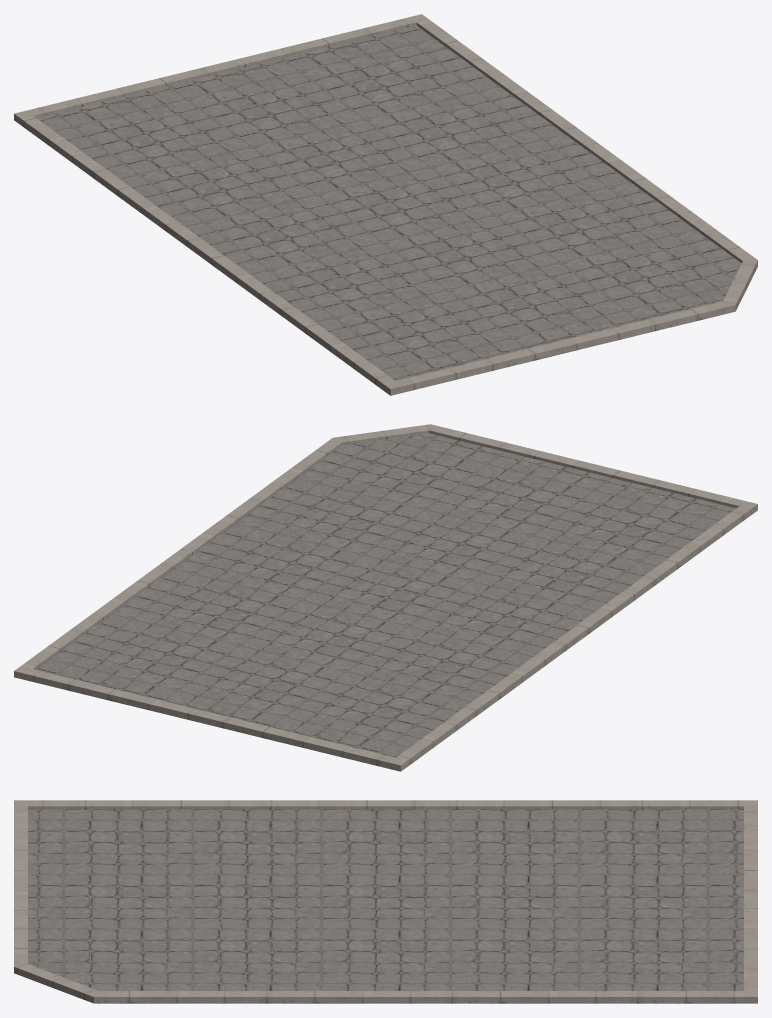
File: TownGroundTile_R.fbx
3 views of the same model, one above another, from view 1: azimuth 30°, elevation 25°; view 2: azimuth 150°, elevation 25°; view 3: azimuth 270°, elevation 25° (orthographic). The views are drawn at different scales.
Visible parts, largest first — view 1: TownGroundTile_R; view 2: TownGroundTile_R; view 3: TownGroundTile_R.
Part boxes in pixels (<box>): TownGroundTile_R: <box>14,14,757,395</box>; TownGroundTile_R: <box>14,424,757,771</box>; TownGroundTile_R: <box>14,800,757,1003</box>.
Bounding box in the file's own units: 1636 × 25.35 × 2616.
Materials: 2 (2 with a texture image).
